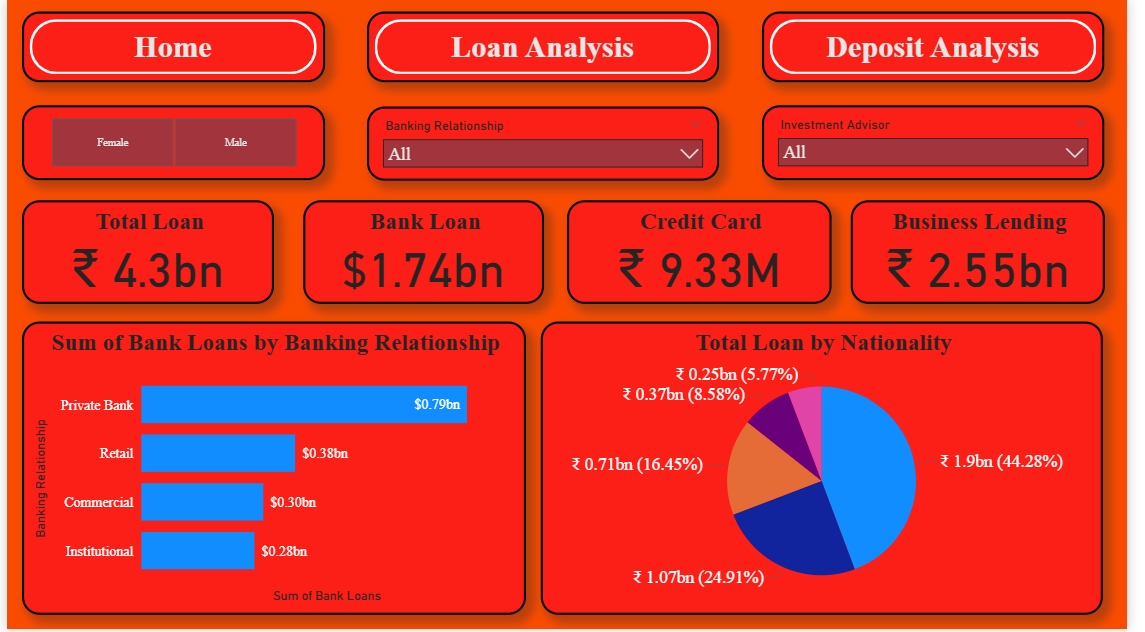

The page's visual inventory and layout, read from the dashboard file:
{"tool":"powerbi","page":{"name":"Loan Analysis","canvas":[1280,720],"ordinal":1},"visuals":[{"type":"actionButton","title":"Home ","box":[17.2,14.7,346,81],"z":0},{"type":"actionButton","title":"Home ","box":[411,14.7,402.5,81],"z":1000},{"type":"actionButton","title":"Home ","box":[862.6,14.7,391.4,81],"z":2000},{"type":"slicer","fields":{"Values":["Gender.Gender"]},"box":[17.2,121.5,346,85.9],"z":4000},{"type":"slicer","fields":{"Values":["Banking Relationship.Banking Relationship"]},"box":[411,122.7,402.5,84.7],"z":5000},{"type":"slicer","fields":{"Values":["Investment Advisor.Investment Advisor"]},"box":[862.6,121.5,391.4,85.9],"z":6000},{"type":"card","title":"Total Loan","fields":{"Values":["Clients - Banking.Total Loan"]},"box":[16.7,230.1,287.9,118.3],"z":7000},{"type":"card","title":"Bank Loan","fields":{"Values":["Sum(Clients - Banking.Bank Loans)"]},"box":[338.1,230.1,275.1,118.3],"z":8000},{"type":"card","title":"Business Lending","fields":{"Values":["Sum(Clients - Banking.Business Lending)"]},"box":[964.1,230.1,290.5,118.3],"z":9000},{"type":"card","title":"Credit Card","fields":{"Values":["Sum(Clients - Banking.Credit Card Balance)"]},"box":[640.1,230.1,302.1,118.3],"z":10000},{"type":"barChart","fields":{"Category":["Banking Relationship.Banking Relationship"],"Y":["Sum(Clients - Banking.Bank Loans)"]},"box":[16.7,368.9,575.9,335.5],"z":11000},{"type":"pieChart","fields":{"Category":["Clients - Banking.Nationality"],"Y":["Clients - Banking.Total Loan"]},"box":[610.6,368.9,642.7,335.5],"z":12000}]}

Visuals, with their boxes in screenshot pixels (x1, y1, x2, y2), scaled from the page's 1280x720 canvas onto the 1145x632 screenshot:
"Home " actionButton: select_region(15, 13, 325, 84)
"Home " actionButton: select_region(368, 13, 728, 84)
"Home " actionButton: select_region(772, 13, 1122, 84)
slicer - Gender.Gender: select_region(15, 107, 325, 182)
slicer - Banking Relationship.Banking Relationship: select_region(368, 108, 728, 182)
slicer - Investment Advisor.Investment Advisor: select_region(772, 107, 1122, 182)
"Total Loan" card: select_region(15, 202, 272, 306)
"Bank Loan" card: select_region(302, 202, 549, 306)
"Business Lending" card: select_region(862, 202, 1122, 306)
"Credit Card" card: select_region(573, 202, 843, 306)
barChart - Banking Relationship.Banking Relationship x Sum(Clients - Banking.Bank Loans): select_region(15, 324, 530, 618)
pieChart - Clients - Banking.Nationality x Clients - Banking.Total Loan: select_region(546, 324, 1121, 618)
